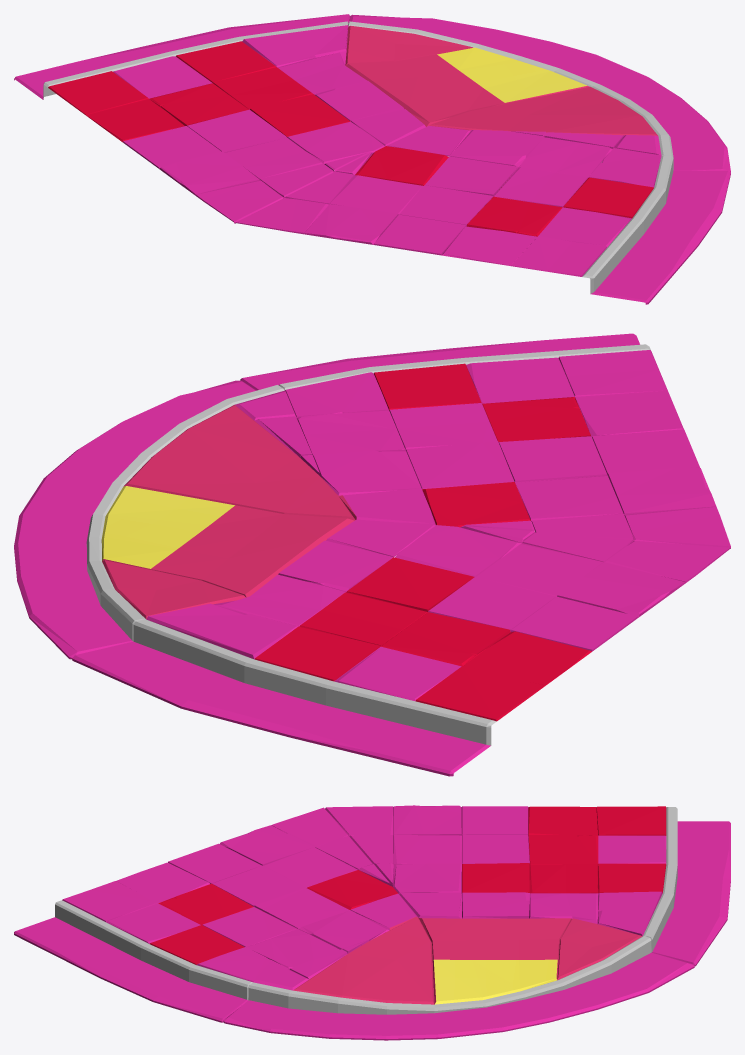
File: Sidewalk09.fbx
3 views of the same model, one above another, from view 1: azimuth 30°, elevation 25°; view 2: azimuth 150°, elevation 25°; view 3: azimuth 270°, elevation 25° (orthographic). The views are drawn at different scales.
Visible parts, largest first — view 1: SM_Sidewalk_02c.mo; view 2: SM_Sidewalk_02c.mo; view 3: SM_Sidewalk_02c.mo.
Part boxes in pixels (x1,y1,x2,y2): SM_Sidewalk_02c.mo: (14, 14, 730, 304); SM_Sidewalk_02c.mo: (14, 333, 730, 776); SM_Sidewalk_02c.mo: (14, 805, 730, 1040).
Size of the model in its own units: 753 by 31.52 by 1052.
